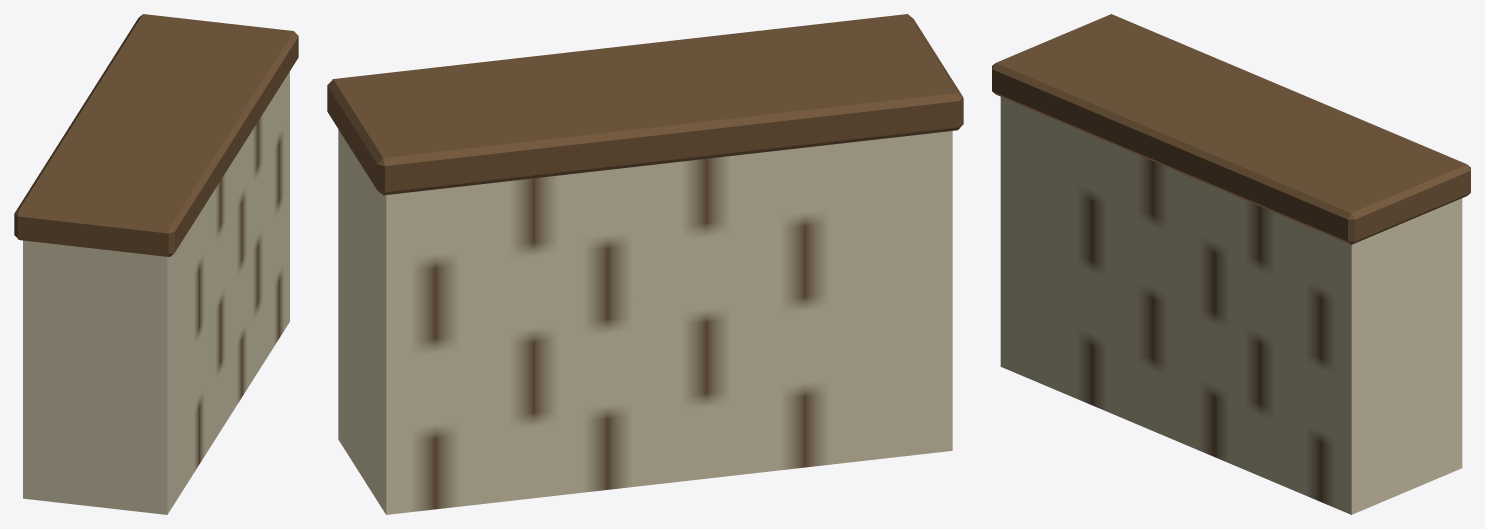
Rendered from prop_stonewall_7652.glb.
3 renders of one model, left to right at view 1: azimuth 30°, elevation 25°; view 2: azimuth 150°, elevation 25°; view 3: azimuth 270°, elevation 25°, orthographic. The views are drawn at different scales.
Visible parts, largest first — view 1: prop_stonewall_7652; view 2: prop_stonewall_7652; view 3: prop_stonewall_7652.
Part boxes in pixels (x1,y1,x2,y2): prop_stonewall_7652: (14, 14, 298, 514); prop_stonewall_7652: (327, 14, 963, 514); prop_stonewall_7652: (992, 14, 1470, 514).
Size of the model in its own units: 0.9725 by 0.6806 by 0.9726.
1 material, 1 textured.
